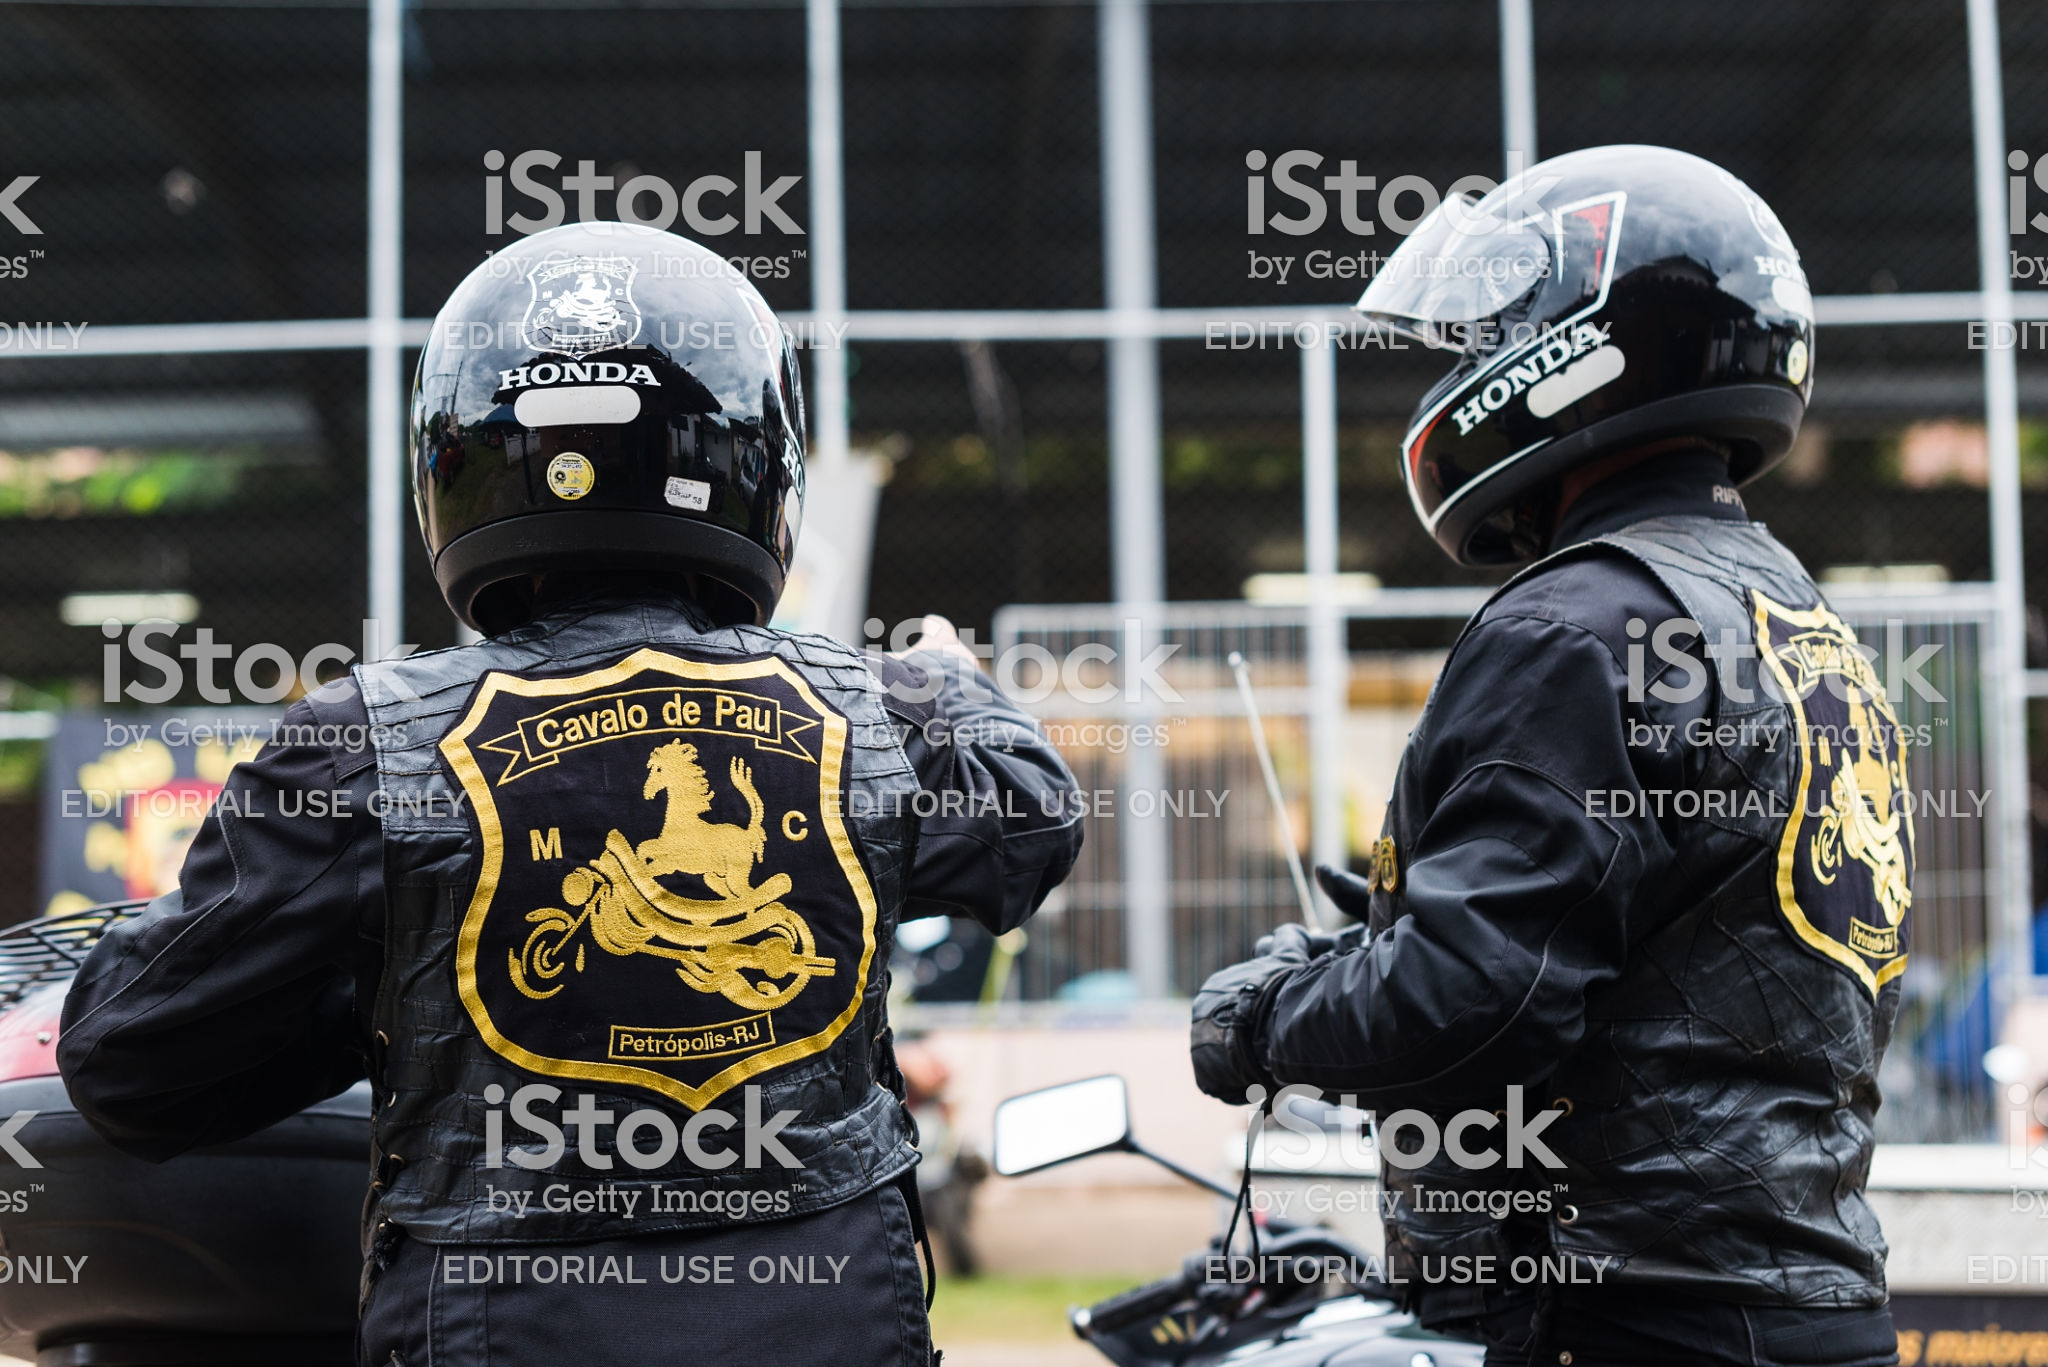helmet: (396, 220, 846, 639), (1369, 153, 1847, 514)
